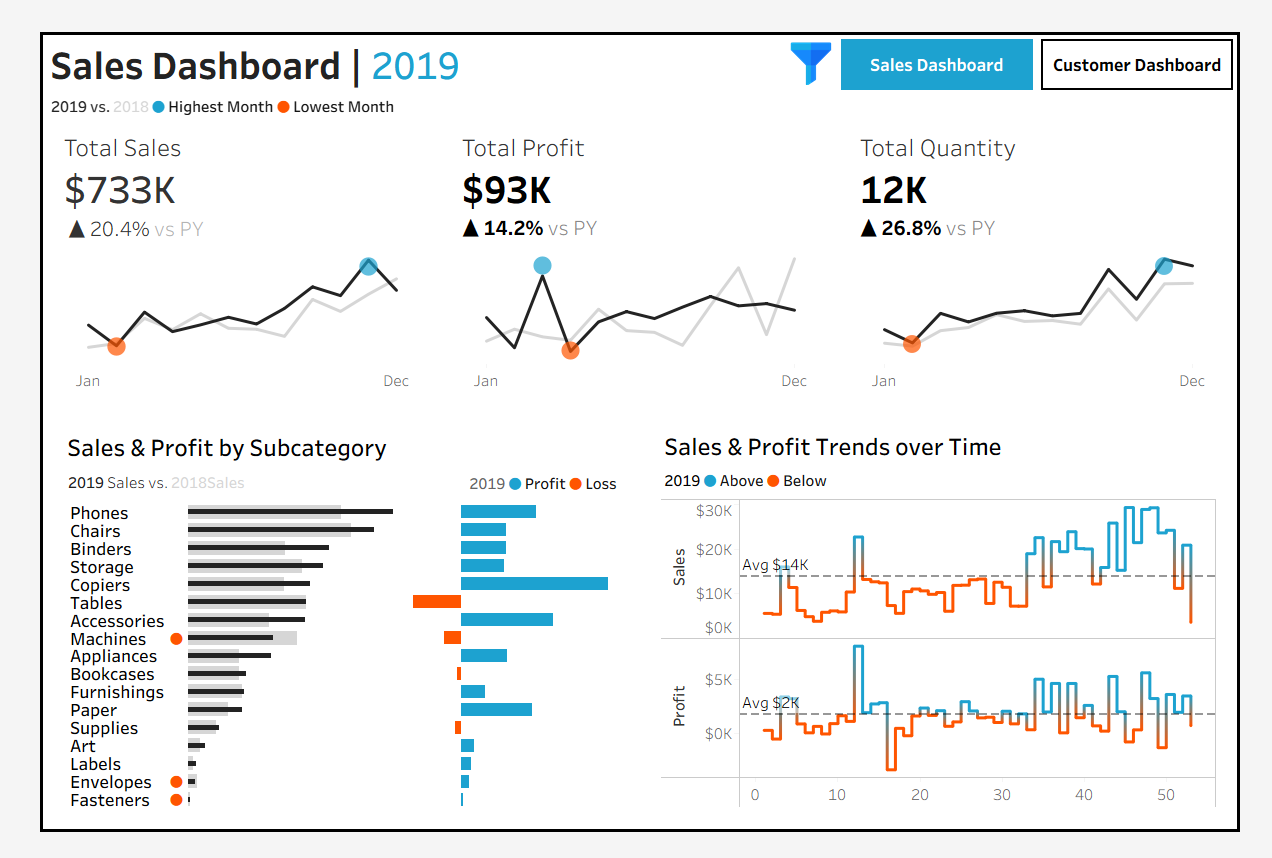

What the dashboard file says about the page in this screenshot:
{"tool":"tableau","page":{"name":"Sales Dashboard","canvas":[1200,800],"ordinal":1},"visuals":[{"type":"text","box":[3,3,794,59]},{"type":"dashboard-object","box":[797,3,200,59]},{"type":"dashboard-object","box":[997,3,200,59]},{"type":"dashboard-object","box":[747,10,48,43]},{"type":"worksheet","title":"Legend of KPI","mark":"Automatic","box":[3,62,1194,26]},{"type":"blank","box":[1042,77,144,91]},{"type":"worksheet","title":"KPI Sales","mark":"Automatic","rows":["Calculation_1091841459696988164"],"cols":["Order Date"],"box":[3,88,398,290]},{"type":"worksheet","title":"KPI Profit","mark":"Automatic","rows":["Min/Max Sales (copy)_1091841459705634829"],"cols":["Order Date"],"box":[401,88,398,290]},{"type":"worksheet","title":"KPI Quantity","mark":"Automatic","rows":["Min/Max Sales (copy)_1724597207578226692"],"cols":["Order Date"],"box":[799,88,398,290]},{"type":"text","box":[1042,168,144,40]},{"type":"parameter","param":"[Parameters].[Parameter 1]","box":[1042,208,144,60]},{"type":"blank","box":[1042,268,144,32]},{"type":"text","box":[1042,300,144,32]},{"type":"filter","title":"KPI Profit","param":"[federated.0f8tu220skqdle1ezro1h014r4wq].[none:Category:nk]","box":[1042,332,144,61]},{"type":"filter","title":"KPI Profit","param":"[federated.0f8tu220skqdle1ezro1h014r4wq].[none:Sub-Category:nk]","box":[1042,393,144,61]},{"type":"text","box":[20,395,563,40]},{"type":"text","box":[617,395,563,37.6]},{"type":"text","box":[617,432.6,563,30.2]},{"type":"worksheet","title":"Legends of subcatergory charts","mark":"Automatic","box":[20,435,402,32]},{"type":"text","box":[422,435,161,32]},{"type":"blank","box":[1042,454,144,32]},{"type":"worksheet","title":"Weekly Trends","mark":"Automatic","rows":["Calculation_1091841459690422272","CY Sales (copy)_1091841459705417740"],"cols":["Order Date"],"box":[617,462.8,563,317.2]},{"type":"worksheet","title":"Subcategory Comparisons","mark":"Bar","rows":["Sub-Category","Calculation_1724597207592058889"],"cols":["CY Sales (copy)_1091841459690688513","Calculation_1091841459690422272","CY Sales (copy)_1091841459705417740"],"box":[20,467,563,312.9]},{"type":"text","box":[1042,486,144,32]},{"type":"filter","title":"KPI Profit","param":"[federated.0f8tu220skqdle1ezro1h014r4wq].[none:Region:nk]","box":[1042,518,144,61]},{"type":"filter","title":"KPI Profit","param":"[federated.0f8tu220skqdle1ezro1h014r4wq].[none:State:nk]","box":[1042,579,144,61]},{"type":"filter","title":"KPI Profit","param":"[federated.0f8tu220skqdle1ezro1h014r4wq].[none:City:nk]","box":[1042,640,144,61]}]}

Visuals, with their boxes in screenshot pixels (x1, y1, x2, y2), scaled from the page's 1200x800 canvas onto the 1272x858 screenshot:
text: l=3, t=3, r=845, b=66
dashboard-object: l=845, t=3, r=1057, b=66
dashboard-object: l=1057, t=3, r=1269, b=66
dashboard-object: l=792, t=11, r=843, b=57
"Legend of KPI" worksheet: l=3, t=66, r=1269, b=94
blank: l=1105, t=83, r=1257, b=180
"KPI Sales" worksheet: l=3, t=94, r=425, b=405
"KPI Profit" worksheet: l=425, t=94, r=847, b=405
"KPI Quantity" worksheet: l=847, t=94, r=1269, b=405
text: l=1105, t=180, r=1257, b=223
parameter: l=1105, t=223, r=1257, b=287
blank: l=1105, t=287, r=1257, b=322
text: l=1105, t=322, r=1257, b=356
"KPI Profit" filter: l=1105, t=356, r=1257, b=421
"KPI Profit" filter: l=1105, t=421, r=1257, b=487
text: l=21, t=424, r=618, b=467
text: l=654, t=424, r=1251, b=464
text: l=654, t=464, r=1251, b=496
"Legends of subcatergory charts" worksheet: l=21, t=467, r=447, b=501
text: l=447, t=467, r=618, b=501
blank: l=1105, t=487, r=1257, b=521
"Weekly Trends" worksheet: l=654, t=496, r=1251, b=837
"Subcategory Comparisons" worksheet (Bar marks): l=21, t=501, r=618, b=836
text: l=1105, t=521, r=1257, b=556
"KPI Profit" filter: l=1105, t=556, r=1257, b=621
"KPI Profit" filter: l=1105, t=621, r=1257, b=686
"KPI Profit" filter: l=1105, t=686, r=1257, b=752
